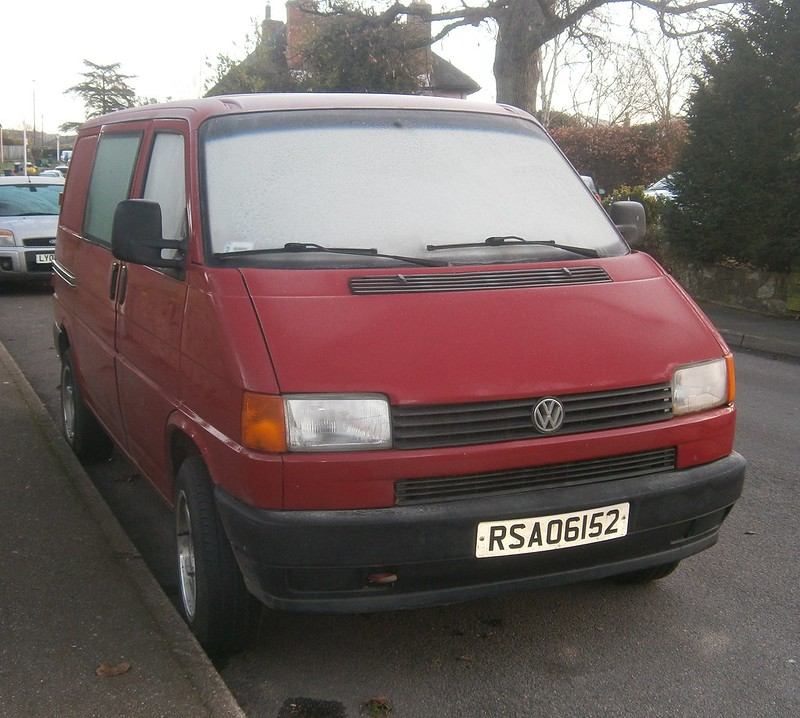number_plate: (438, 499, 663, 556)
